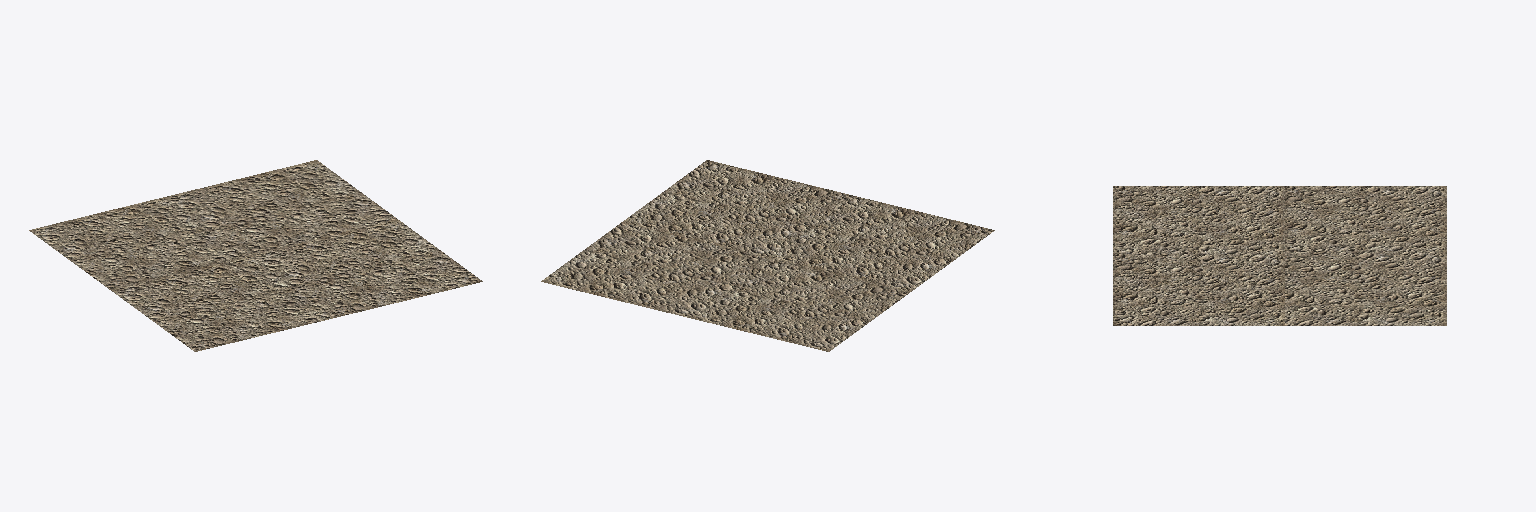
3 views of the same model, side by side, from view 1: azimuth 30°, elevation 25°; view 2: azimuth 150°, elevation 25°; view 3: azimuth 270°, elevation 25° (orthographic).
Visible parts, largest first — view 1: pPlane1; view 2: pPlane1; view 3: pPlane1.
Boxes of the visible parts, box(x1,y1,x2,y2) form: pPlane1: box(29, 160, 482, 351); pPlane1: box(541, 160, 994, 351); pPlane1: box(1113, 186, 1446, 325).
Size of the model in its own units: 200 by 0 by 200.
Materials: 1 (1 with a texture image).